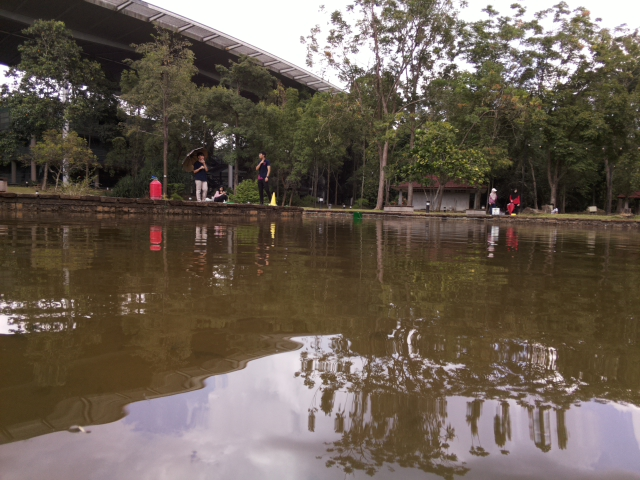checkpoint: (266, 190, 280, 208)
obstacle: (351, 210, 364, 219)
